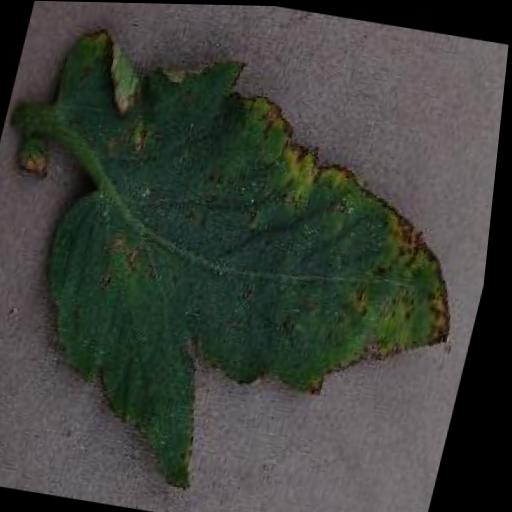Bacterial Spot: (0, 13, 511, 512)
